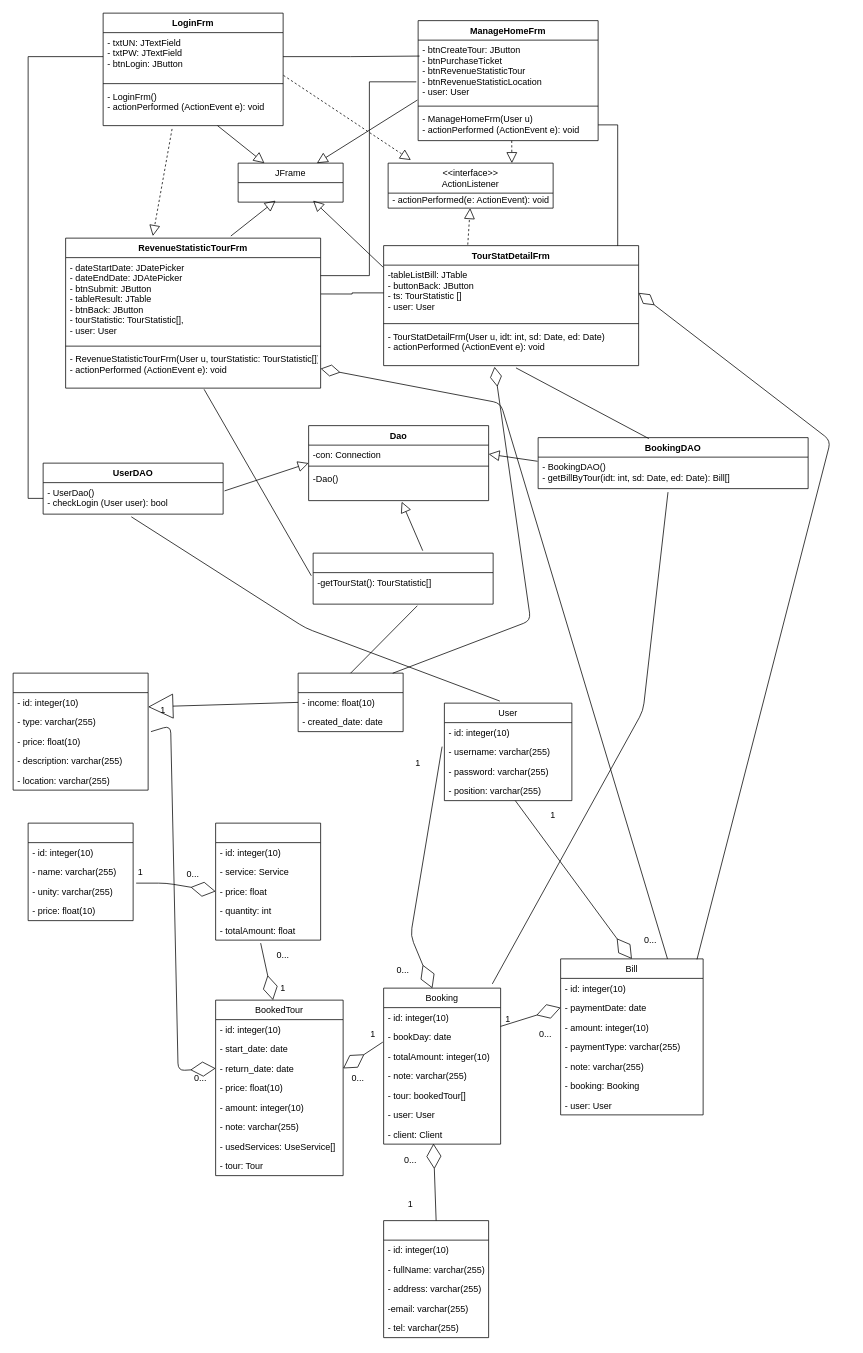
Some shapes in this 863 by 1353 pixel diagram are drawn without their labels. The box of each missing label's shape, as (x1, y1, x2, y2) in pixels:
Client: (383, 1220, 489, 1338)
Service: (27, 822, 133, 921)
Tour: (12, 672, 148, 790)
TourStatistic: (297, 672, 403, 732)
TourStatisticDAO: (312, 552, 493, 604)
UsedService: (215, 822, 321, 940)
